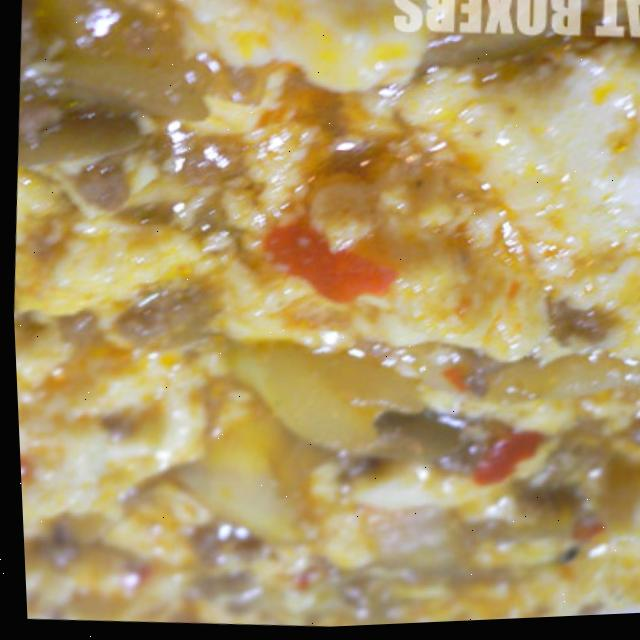豆腐料理: (1, 11, 640, 640)
